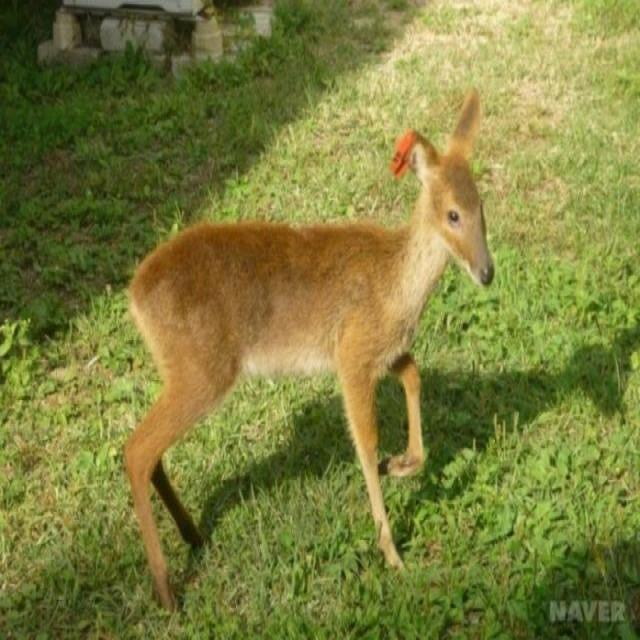deer: (42, 78, 500, 621)
